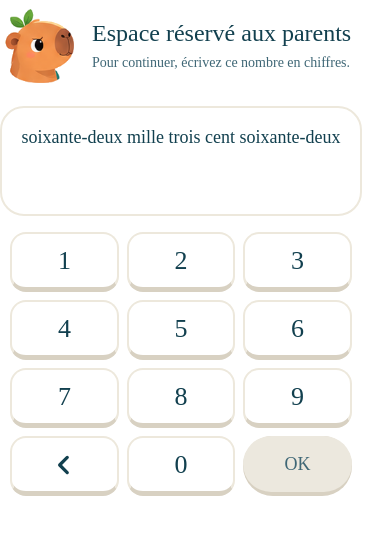
Test case: contrôle parental › propose un autre nombre après une erreur, sans blocage ni mot punitif
Click the button "1" at (64, 262), box [10,232,119,292]
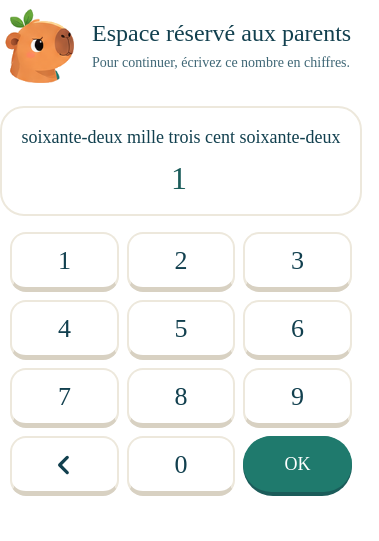
Click the button "2" at (181, 262), box [127,232,235,292]
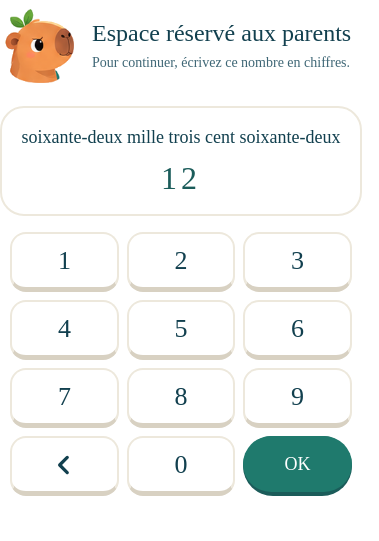
Click the button with aria-label "Valider" at (298, 466), box [243,436,352,496]
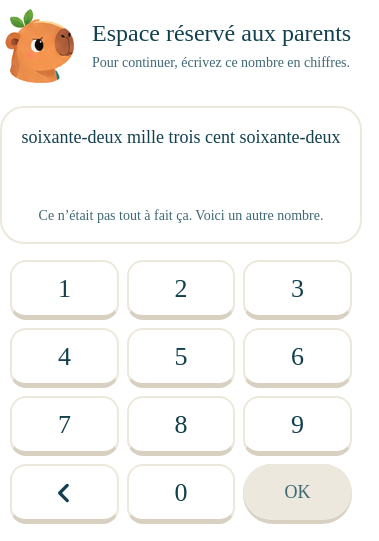
Expected: the text "Ce n’était pas tout à fait ça. Voici un autre nombre." is shown, [18,206,344,226]
